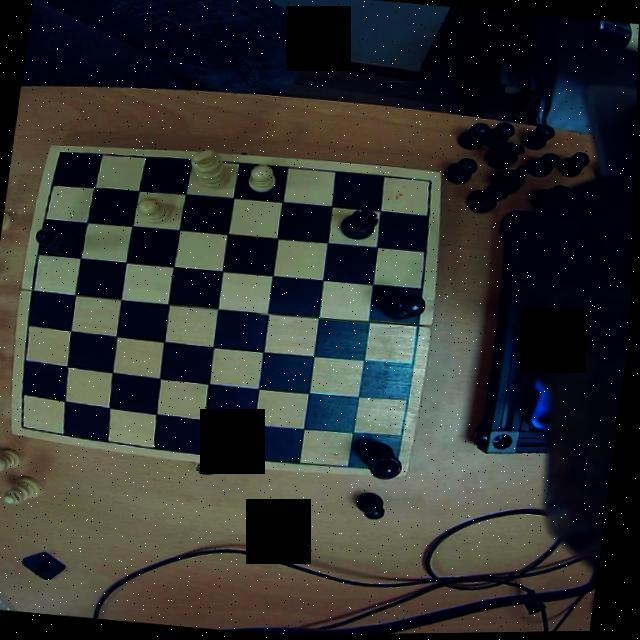chess-table-corners: (382, 454, 410, 476), (418, 172, 444, 195), (49, 143, 78, 161), (13, 412, 37, 432)
